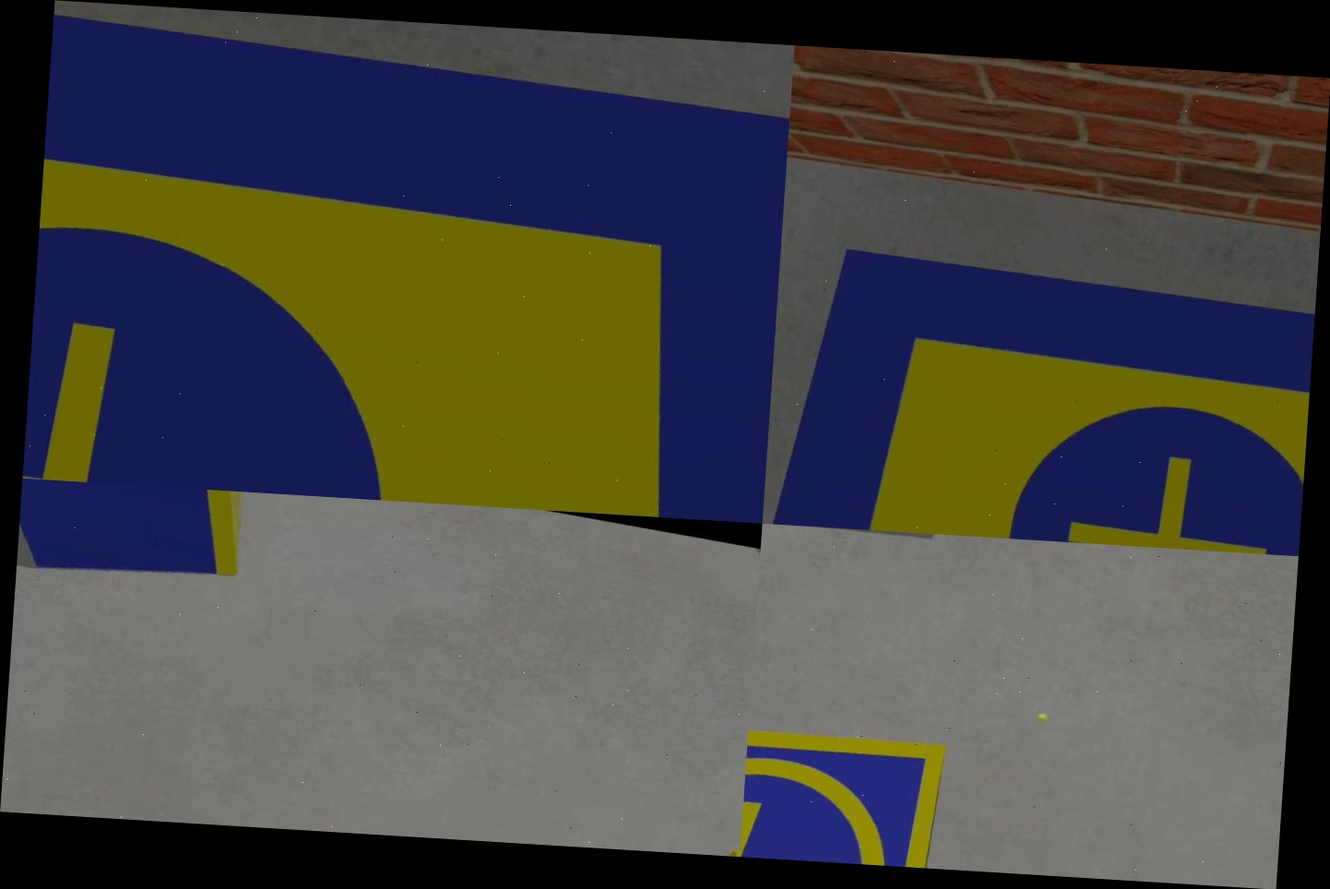large_base: (22, 0, 794, 524), (762, 215, 1318, 556)
small_base: (740, 682, 956, 869)
